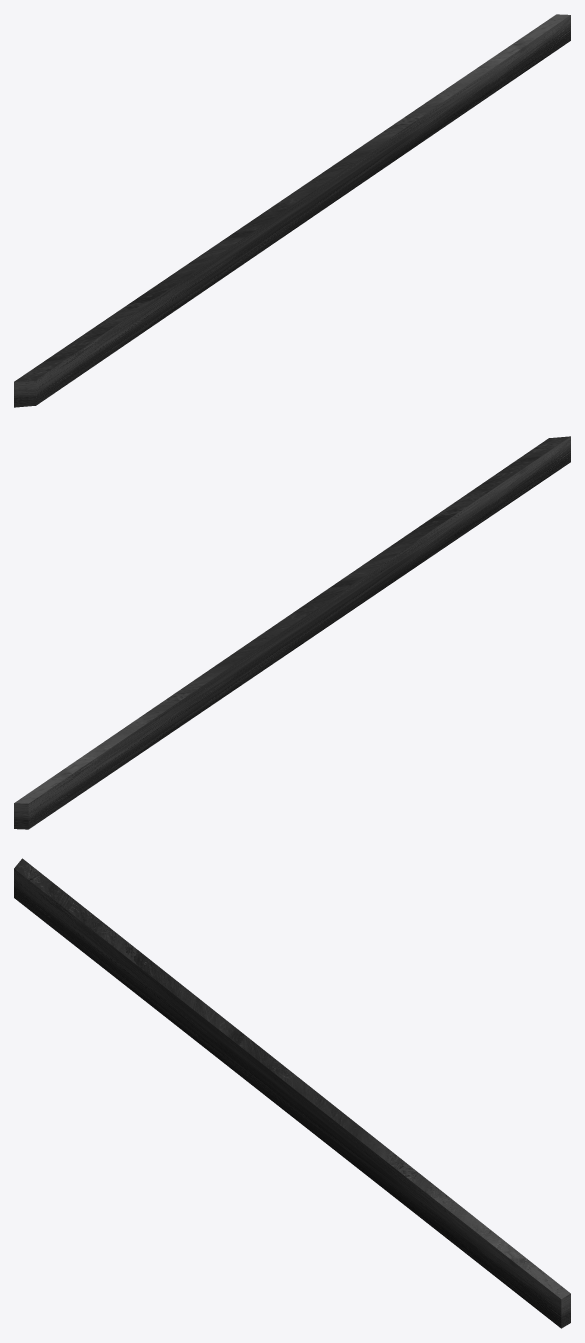
File: noir7.FBX
The picture shows the model from 3 angles, top to bottom: view 1: azimuth 30°, elevation 25°; view 2: azimuth 210°, elevation 25°; view 3: azimuth 270°, elevation 25°; orthographic projection. The views are drawn at different scales.
Visible parts, largest first — view 1: Ligne006; view 2: Ligne006; view 3: Ligne006.
Part boxes in pixels (left/top/right/bottom): Ligne006: left=14, top=14, right=570, bottom=407; Ligne006: left=14, top=436, right=570, bottom=829; Ligne006: left=14, top=858, right=570, bottom=1328.
Size of the model in its own units: 14.29 by 0.4438 by 7.63.
Materials: 1 (1 with a texture image).
